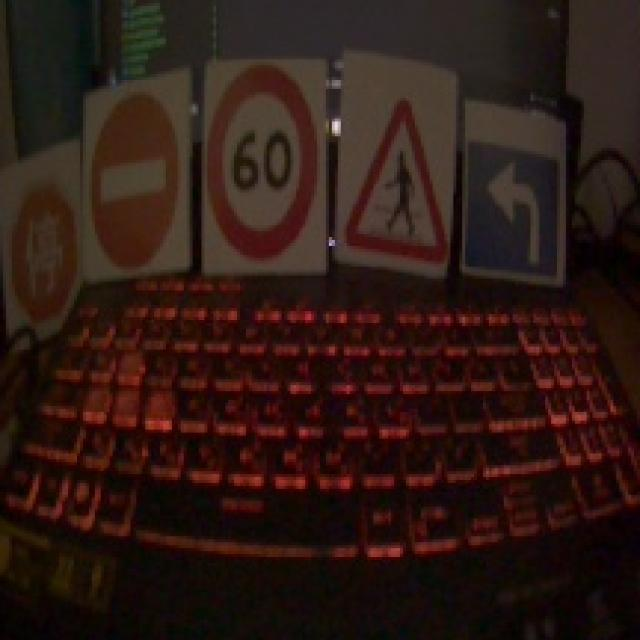DoNotEnterSign: (92, 94, 182, 265)
